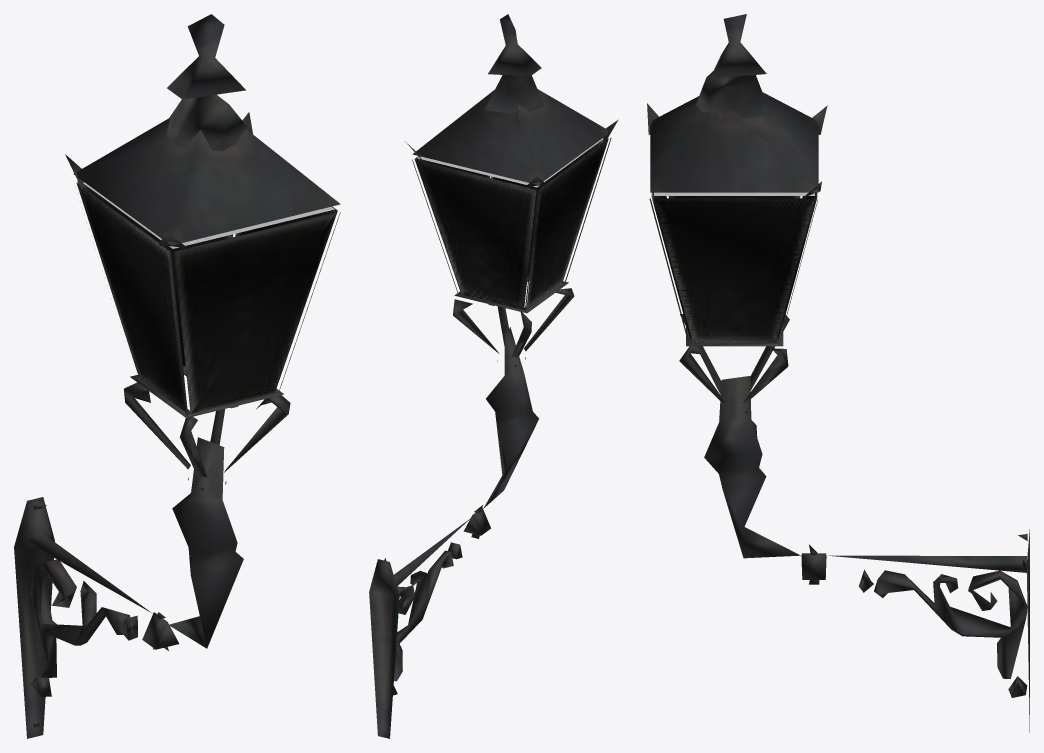
The model's file is wall_lamp.glb.
3 renders of one model, left to right at view 1: azimuth 30°, elevation 25°; view 2: azimuth 150°, elevation 25°; view 3: azimuth 270°, elevation 25°, orthographic. The views are drawn at different scales.
Visible parts, largest first — view 1: wall_lamp; view 2: wall_lamp; view 3: wall_lamp.
Boxes of the visible parts, x1,y1,x2,y2 form: wall_lamp: [14, 14, 340, 738]; wall_lamp: [369, 14, 618, 738]; wall_lamp: [647, 14, 1029, 732].
Bounding box in the file's own units: 0.3836 × 1.66 × 0.7954.
2 materials, 2 textured.
